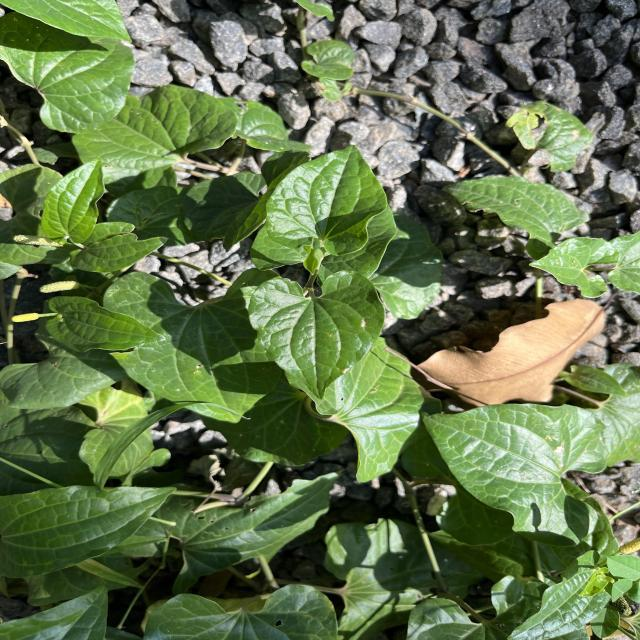Piper longum: (417, 402, 616, 550), (246, 270, 388, 402), (262, 144, 389, 258)
